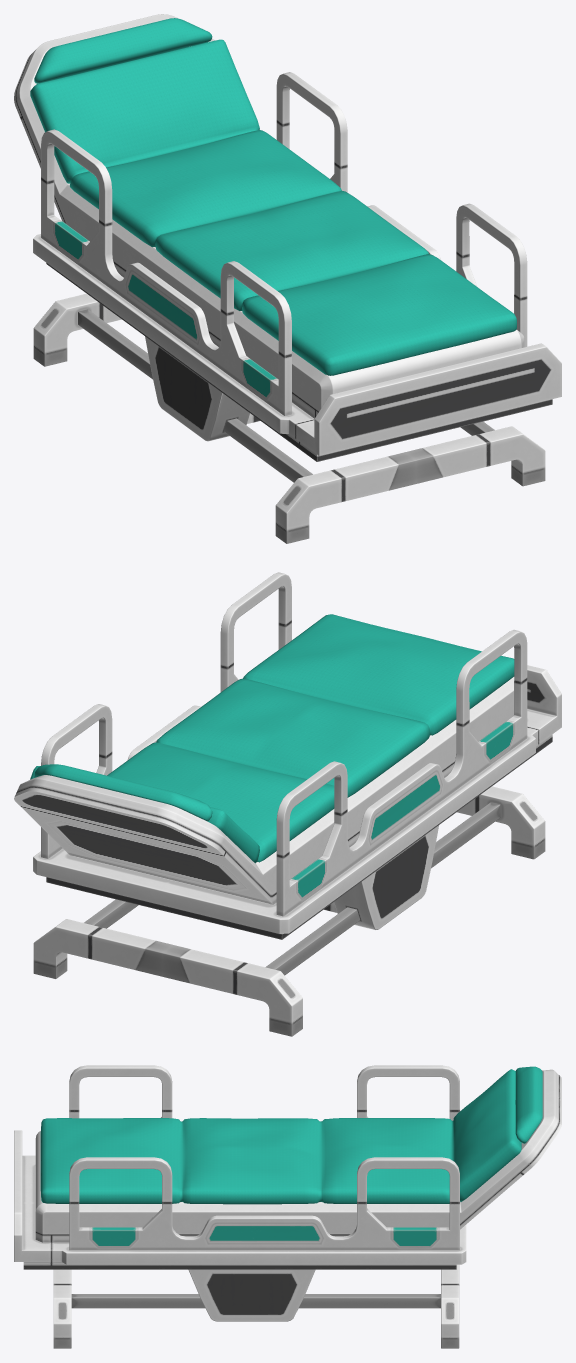
The model's file is MedBed02.FBX.
3 views of the same model, one above another, from view 1: azimuth 30°, elevation 25°; view 2: azimuth 150°, elevation 25°; view 3: azimuth 270°, elevation 25° (orthographic). The views are drawn at different scales.
Visible parts, largest first — view 1: MedBed02; view 2: MedBed02; view 3: MedBed02.
Part boxes in pixels (x1,y1,x2,y2): MedBed02: (14,14,561,543); MedBed02: (14,572,561,1036); MedBed02: (14,1065,561,1348).
Size of what is drawn, in the model's own units: 1.09 by 1.04 by 2.49.
